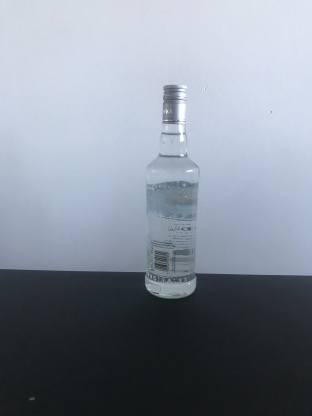nakretka: (160, 82, 188, 126)
